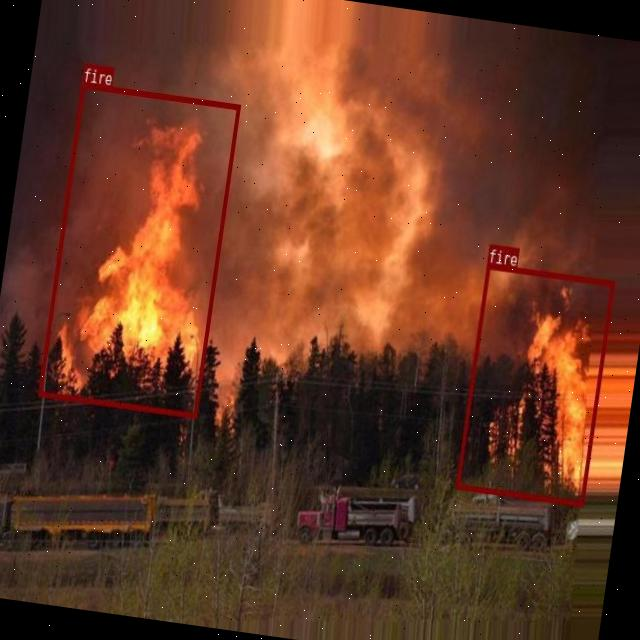fire: (38, 82, 240, 416), (455, 262, 614, 506)
